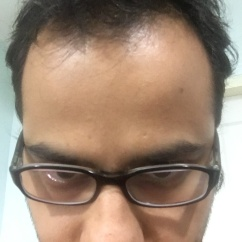glasses: (14, 145, 220, 209)
